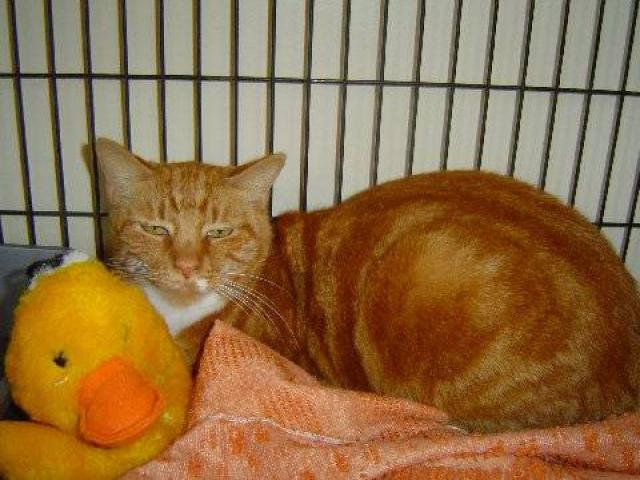cat: (91, 140, 640, 445)
